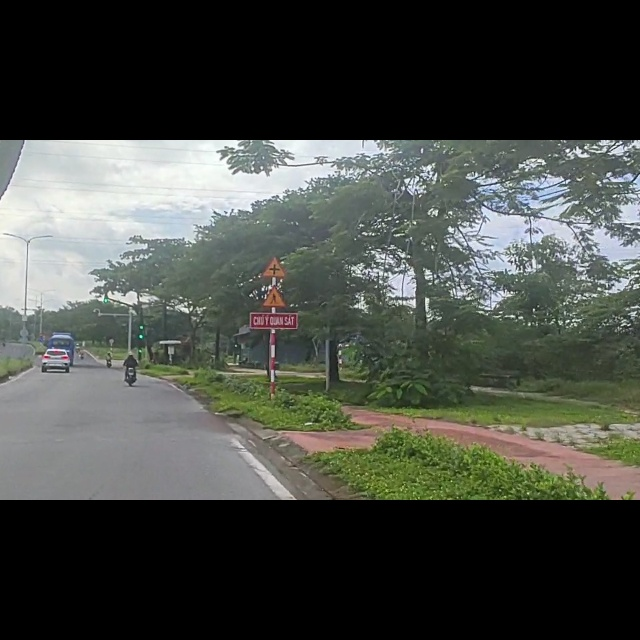bien_nguy_hiem: (261, 256, 290, 299), (263, 207, 287, 245)
